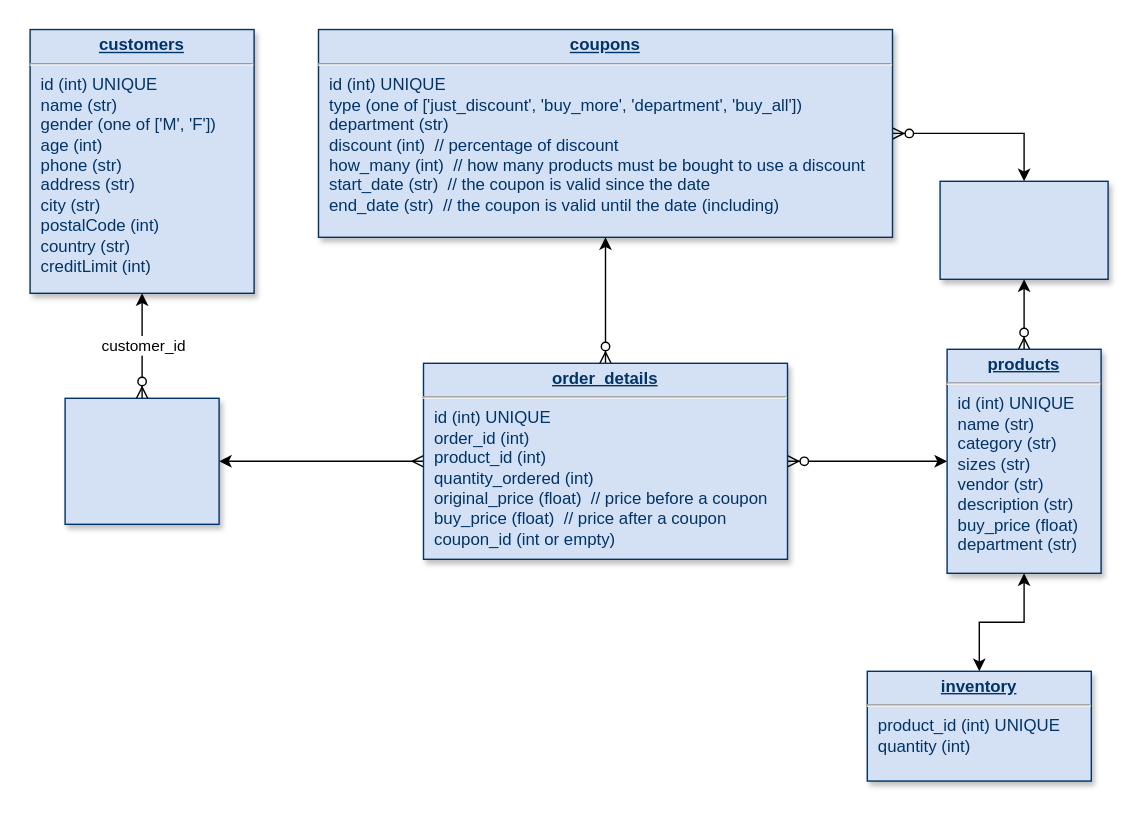
Some shapes in this 1141 by 816 pixel diagram are drawn without their labels. Each missing label, with the centre of its shape:
"coupon_product coupon_id (int) product_id (str)" goes at pixel 1024 231.
"orders id (int) UNIQUE customer_id (int) order_date (str)" goes at pixel 142 462.
